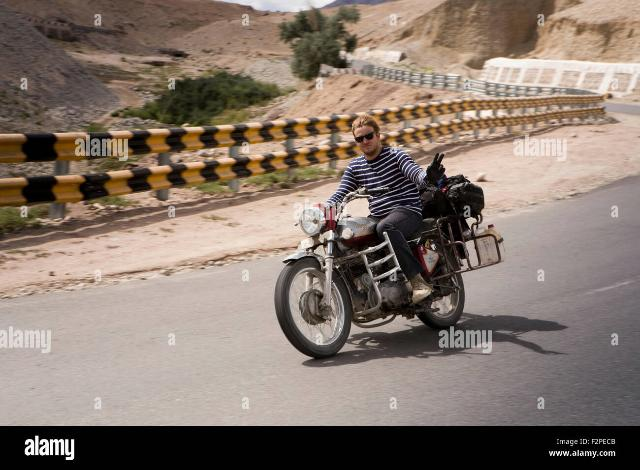motor: (275, 181, 498, 359)
non-helm: (353, 116, 382, 156)
